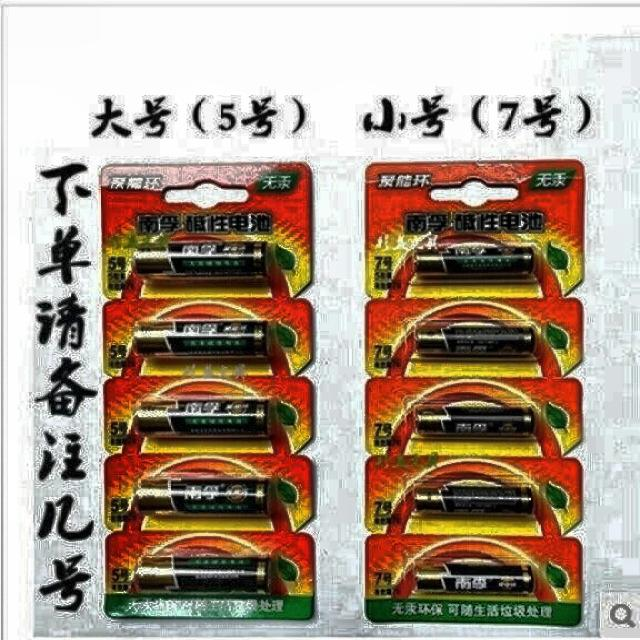Non-Valuable Waste - Batteries: (134, 320, 268, 358), (135, 400, 268, 437), (132, 556, 268, 592), (135, 479, 270, 515), (135, 242, 267, 276), (415, 321, 536, 358), (417, 401, 535, 437), (414, 480, 534, 515), (415, 558, 534, 592), (414, 245, 535, 277)
